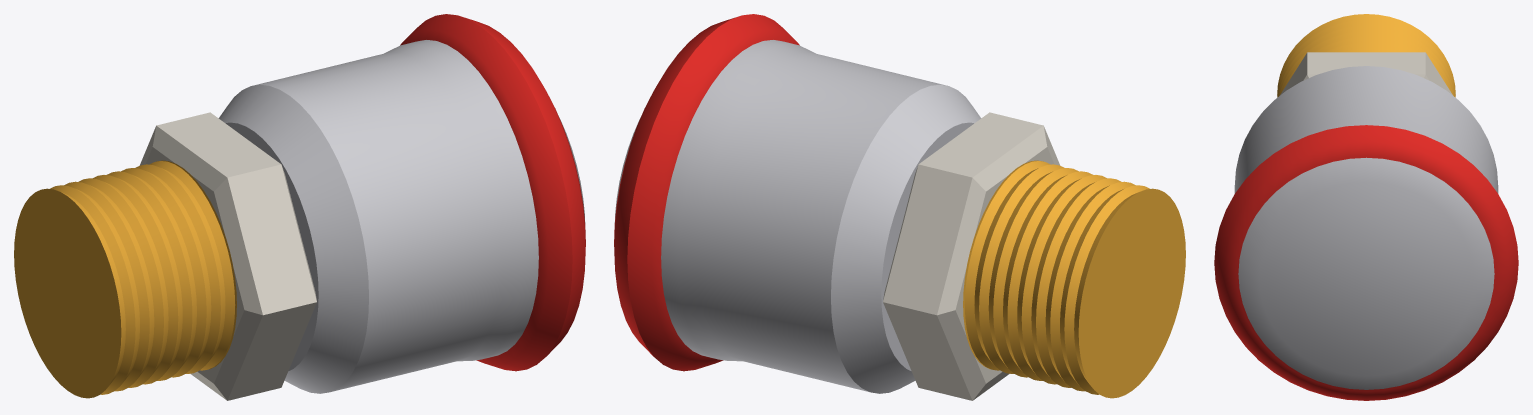
The model's file is fitting_adp_22x12_M_r.glb.
3 renders of one model, left to right at view 1: azimuth 30°, elevation 25°; view 2: azimuth 150°, elevation 25°; view 3: azimuth 270°, elevation 25°, orthographic. The views are drawn at different scales.
Parts seen in each view (by area): view 1: раструб, резьба НР, шестигранник переходника, кольцо пресс; view 2: раструб, резьба НР, шестигранник переходника, кольцо пресс; view 3: раструб, кольцо пресс, резьба НР, шестигранник переходника.
Boxes of the visible parts, x1,y1,x2,y2 form: раструб: (218, 40, 585, 393); резьба НР: (14, 160, 236, 398); шестигранник переходника: (139, 112, 316, 400); кольцо пресс: (400, 14, 585, 371); раструб: (614, 40, 981, 393); резьба НР: (963, 160, 1185, 398); шестигранник переходника: (883, 112, 1060, 400); кольцо пресс: (614, 14, 799, 371); раструб: (1234, 66, 1498, 389); кольцо пресс: (1214, 125, 1518, 400); резьба НР: (1277, 14, 1455, 97); шестигранник переходника: (1280, 52, 1452, 95).
Bounding box in the file's own units: 0.051 × 0.0356 × 0.0356.
